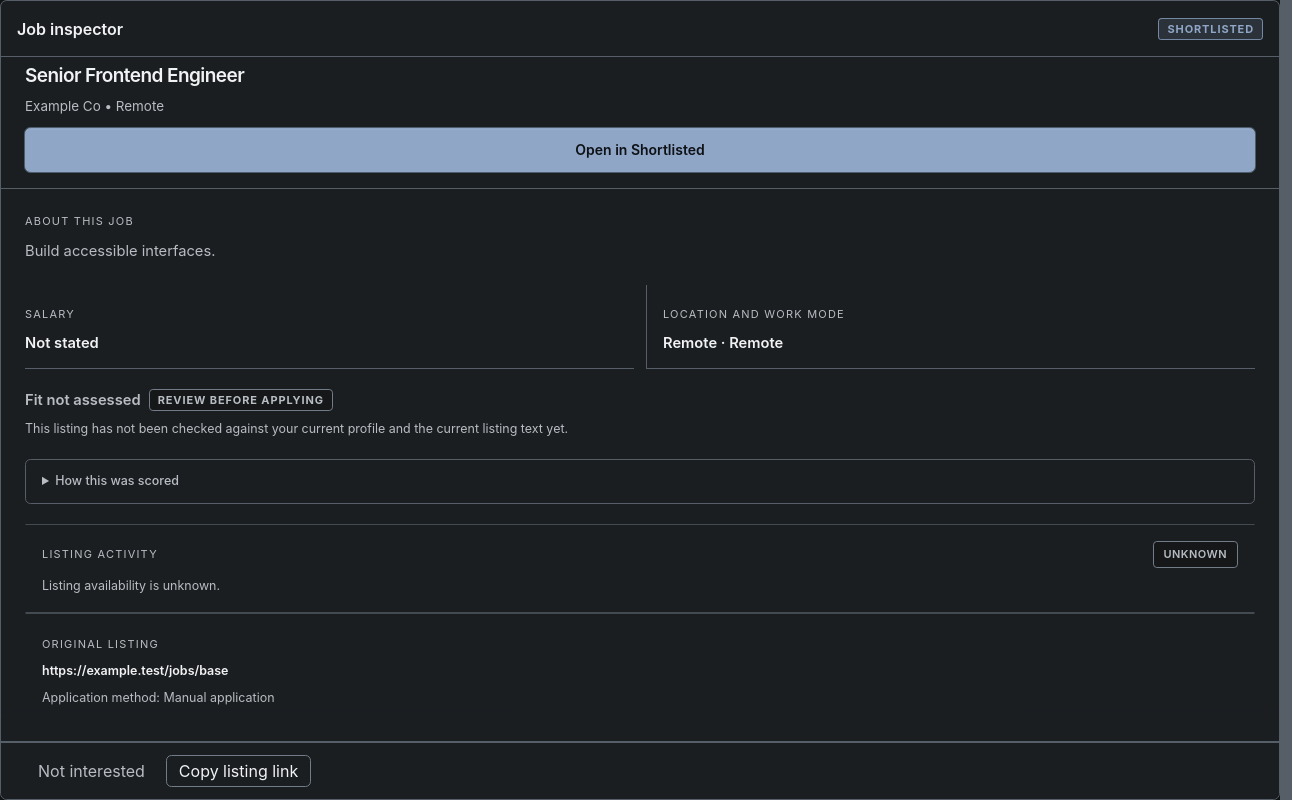
Test case: DiscoveryDetailPanel › offers a single forward continuation for an already-shortlisted job
Expected: the text "Shortlisted" is shown, [1158,18,1263,40]
Click the button "Not interested".
click(91, 771)  # box [25,755,158,787]
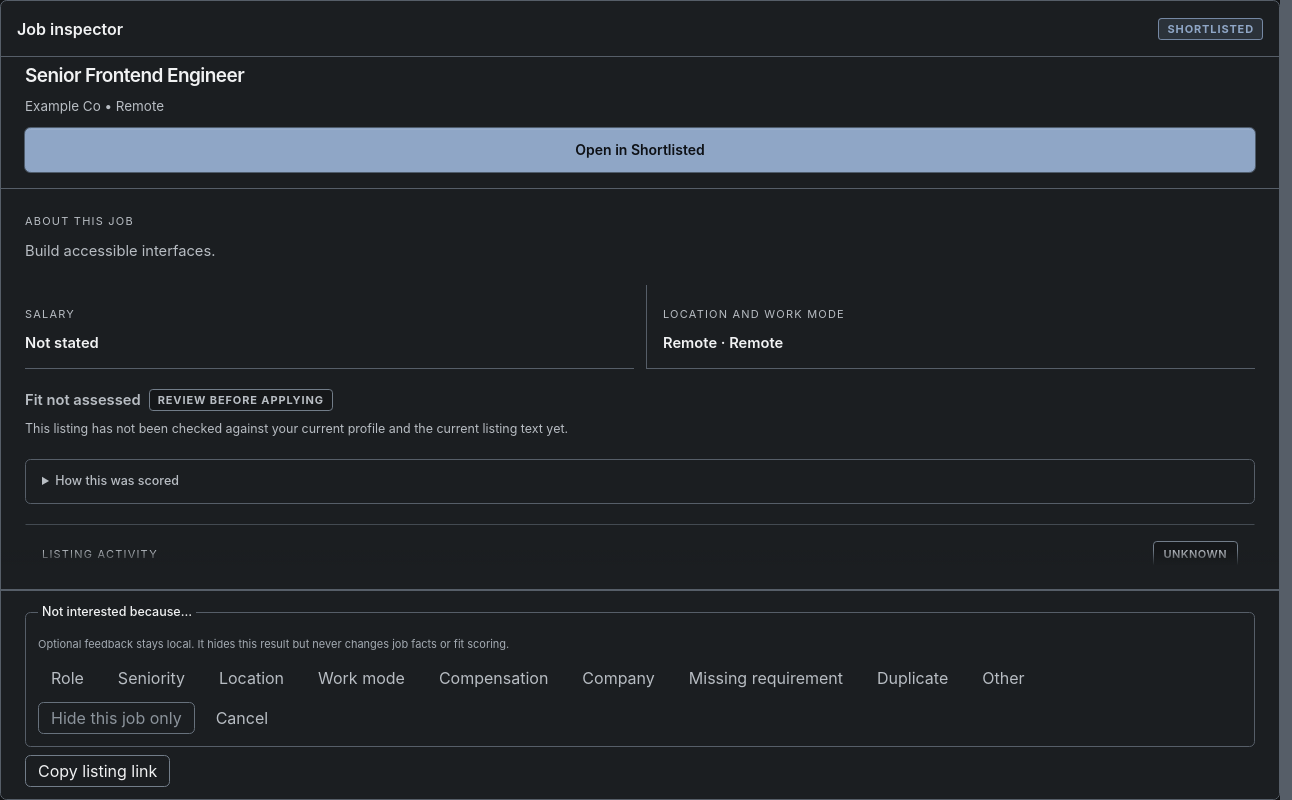
Now the text "Optional feedback stays local. It hides this result but never changes job facts or fit scoring." is shown, box [38,637,509,651]
